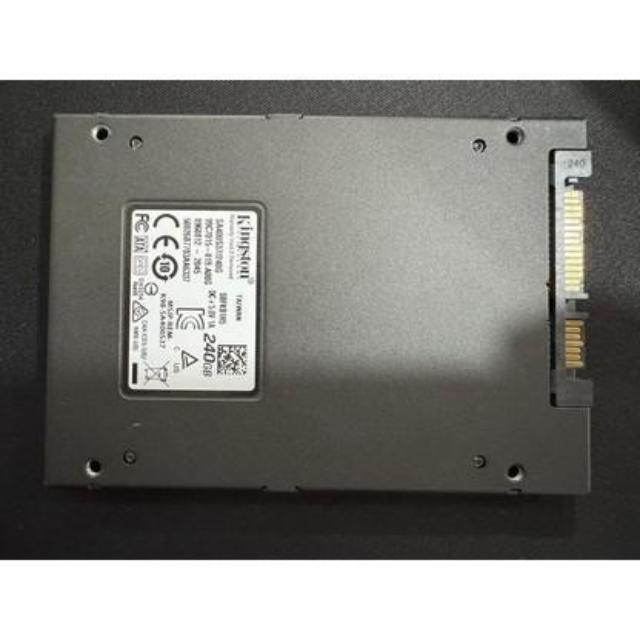DISK: (39, 106, 598, 500)
